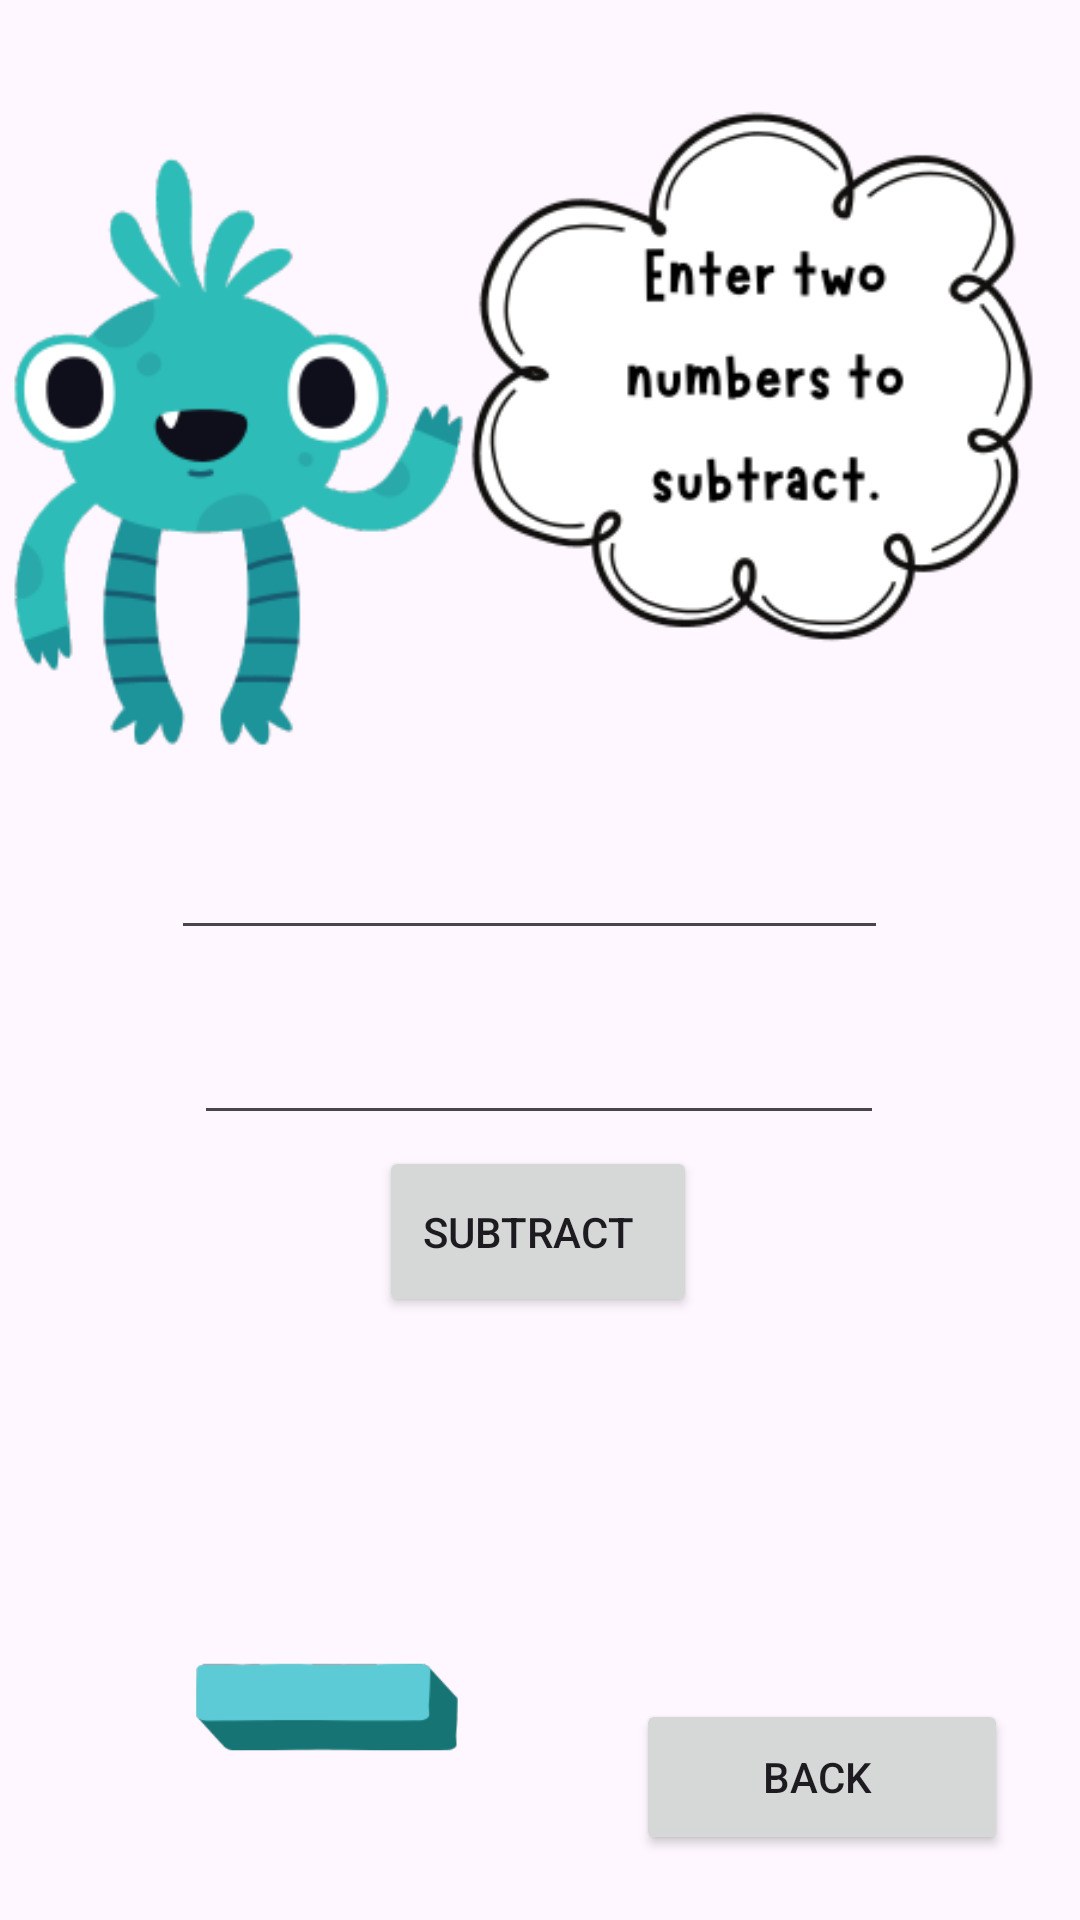

Icons on this 1080px x 1920px Android screen, each with its box as BBox(x1, y1, x2, y2):
subtract: BBox(196, 1663, 458, 1751)
